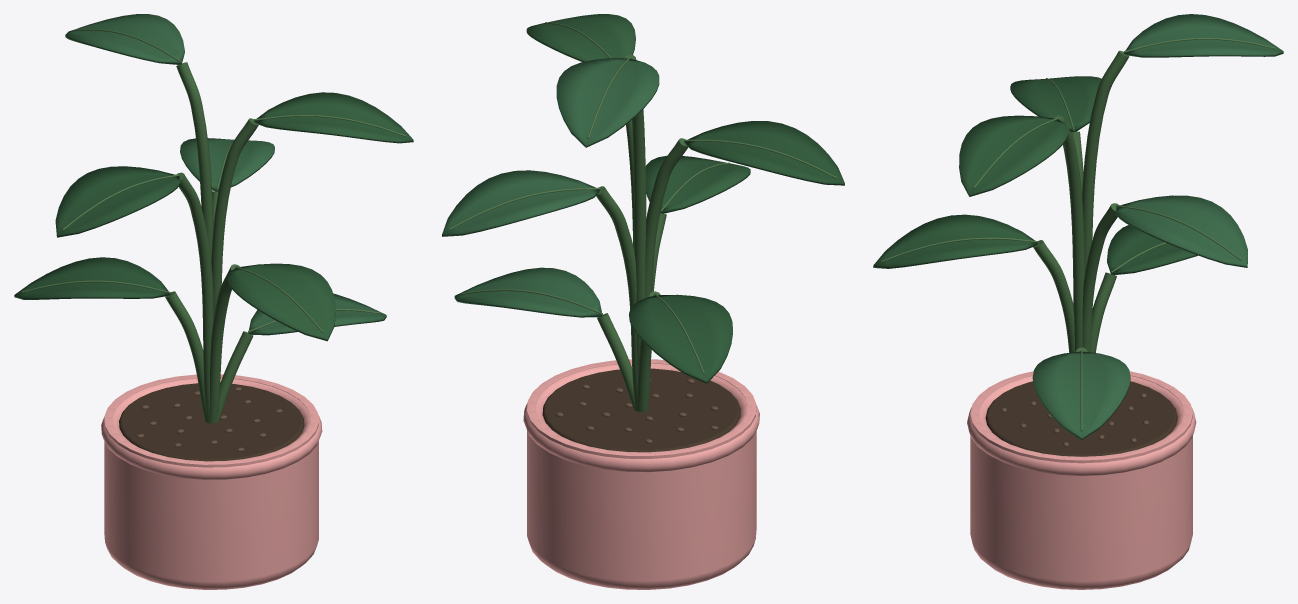
The model's file is plantTallPink.glb.
3 views of the same model, side by side, from view 1: azimuth 30°, elevation 25°; view 2: azimuth 150°, elevation 25°; view 3: azimuth 270°, elevation 25° (orthographic). The views are drawn at different scales.
Visible parts, largest first — view 1: Ceramic planter, Soil, Leaf blade 3, Leaf blade 5, Leaf blade 6, Pot rim, Leaf blade 2, Leaf blade 7, Leaf blade 4, Stem.004, Stem.005, Stem.006 (+4 smaller); view 2: Ceramic planter, Soil, Leaf blade 7, Leaf blade 2, Leaf blade 4, Leaf blade 5, Pot rim, Leaf blade 1, Leaf blade 6, Leaf blade 3, Stem.006, Stem.004 (+3 smaller); view 3: Ceramic planter, Soil, Leaf blade 1, Leaf blade 6, Leaf blade 4, Leaf blade 3, Leaf blade 7, Pot rim, Leaf blade 5, Stem.005, Leaf blade 2, Stem.006 (+3 smaller).
Part boxes in pixels (x1,y1,x2,y2): Ceramic planter: [104, 374, 318, 589]; Soil: [119, 383, 304, 461]; Leaf blade 3: [227, 263, 335, 341]; Leaf blade 5: [55, 166, 180, 237]; Leaf blade 6: [254, 92, 413, 143]; Pot rim: [101, 378, 322, 479]; Leaf blade 2: [14, 257, 170, 299]; Leaf blade 7: [65, 14, 184, 64]; Leaf blade 4: [180, 138, 274, 191]; Stem.004: [176, 172, 213, 423]; Stem.005: [211, 118, 258, 319]; Stem.006: [176, 62, 213, 260]; Ceramic planter: [527, 359, 756, 589]; Soil: [542, 368, 740, 452]; Leaf blade 7: [556, 58, 659, 147]; Leaf blade 2: [629, 294, 732, 383]; Leaf blade 4: [442, 170, 599, 236]; Leaf blade 5: [684, 121, 844, 185]; Pot rim: [523, 363, 759, 472]; Leaf blade 1: [454, 267, 602, 317]; Leaf blade 6: [526, 14, 635, 61]; Leaf blade 3: [645, 156, 750, 213]; Stem.006: [624, 54, 646, 376]; Stem.004: [645, 138, 688, 409]; Ceramic planter: [970, 371, 1192, 589]; Soil: [985, 381, 1177, 456]; Leaf blade 1: [1032, 351, 1130, 440]; Leaf blade 6: [959, 115, 1068, 196]; Leaf blade 4: [1116, 195, 1247, 267]; Leaf blade 3: [873, 214, 1037, 268]; Leaf blade 7: [1124, 14, 1283, 57]; Pot rim: [967, 376, 1196, 475]; Leaf blade 5: [1010, 76, 1101, 131]; Stem.005: [1054, 115, 1084, 351]; Leaf blade 2: [1107, 225, 1197, 275]; Stem.006: [1082, 50, 1129, 272].
Size of the model in its own units: 1.23 by 1.64 by 1.22.
